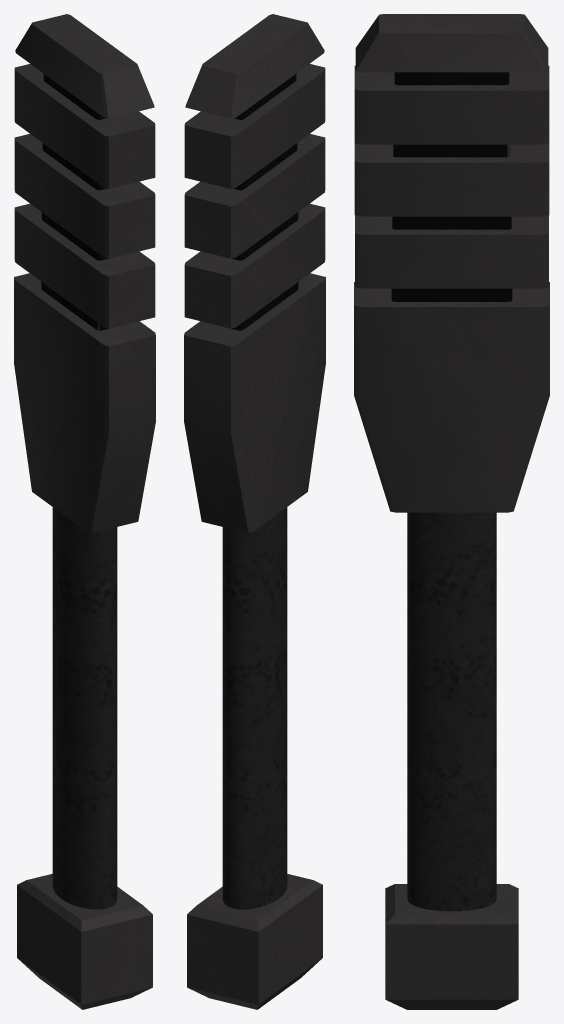
The model's file is disarmer.gltf.
The picture shows the model from 3 angles, left to right: view 1: azimuth 30°, elevation 25°; view 2: azimuth 150°, elevation 25°; view 3: azimuth 270°, elevation 25°; orthographic projection. The views are drawn at different scales.
Visible parts, largest first — view 1: Cube; view 2: Cube; view 3: Cube.
Part boxes in pixels (x1=…): Cube: x1=14, y1=14, x2=155, y2=1009; Cube: x1=184, y1=14, x2=325, y2=1009; Cube: x1=354, y1=14, x2=549, y2=1009.
Bounding box in the file's own units: 0.43 × 5.41 × 0.9851.
Materials: 1 (1 with a texture image).
